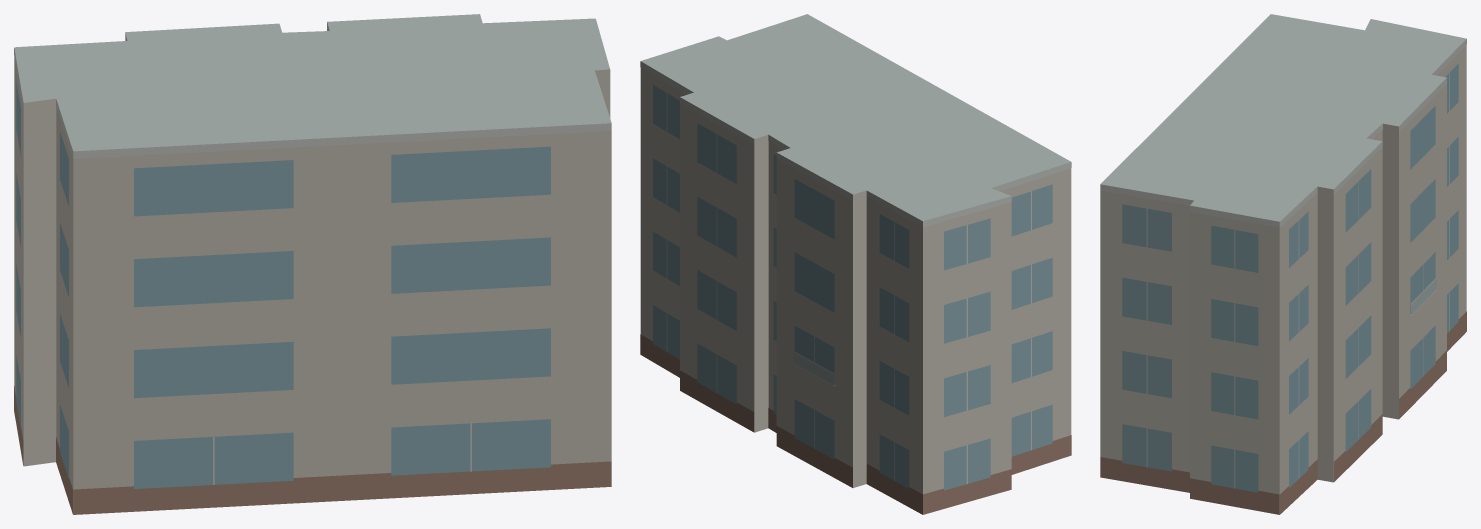
The model's file is survey-upis-32922982.glb.
The picture shows the model from 3 angles, left to right: view 1: azimuth 30°, elevation 25°; view 2: azimuth 150°, elevation 25°; view 3: azimuth 270°, elevation 25°; orthographic projection. The views are drawn at different scales.
Parts seen in each view (by area): view 1: survey-upis-32922982.tmp; view 2: survey-upis-32922982.tmp; view 3: survey-upis-32922982.tmp.
Boxes of the visible parts, left/top/right/bottom form: survey-upis-32922982.tmp: left=14, top=14, right=611, bottom=514; survey-upis-32922982.tmp: left=640, top=14, right=1071, bottom=514; survey-upis-32922982.tmp: left=1100, top=14, right=1466, bottom=514.
Bounding box in the file's own units: 17.83 × 11.72 × 13.29.
